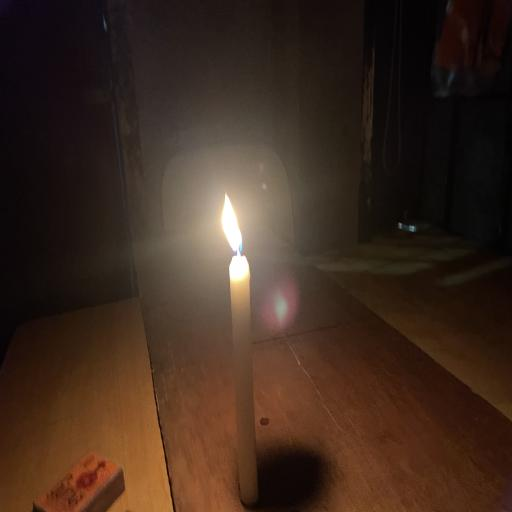fire: (164, 181, 273, 299)
